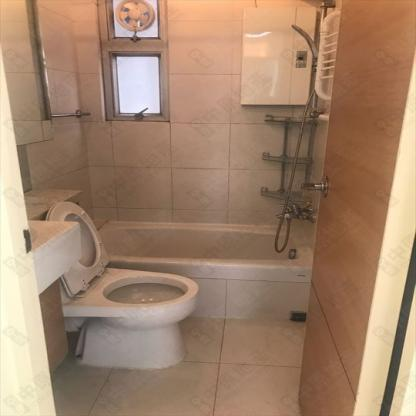Bathtub: (98, 220, 313, 320)
Exhaust Fan: (115, 0, 156, 32)
Toilet Sink: (21, 186, 204, 371)
Water Heater: (240, 6, 320, 104)
